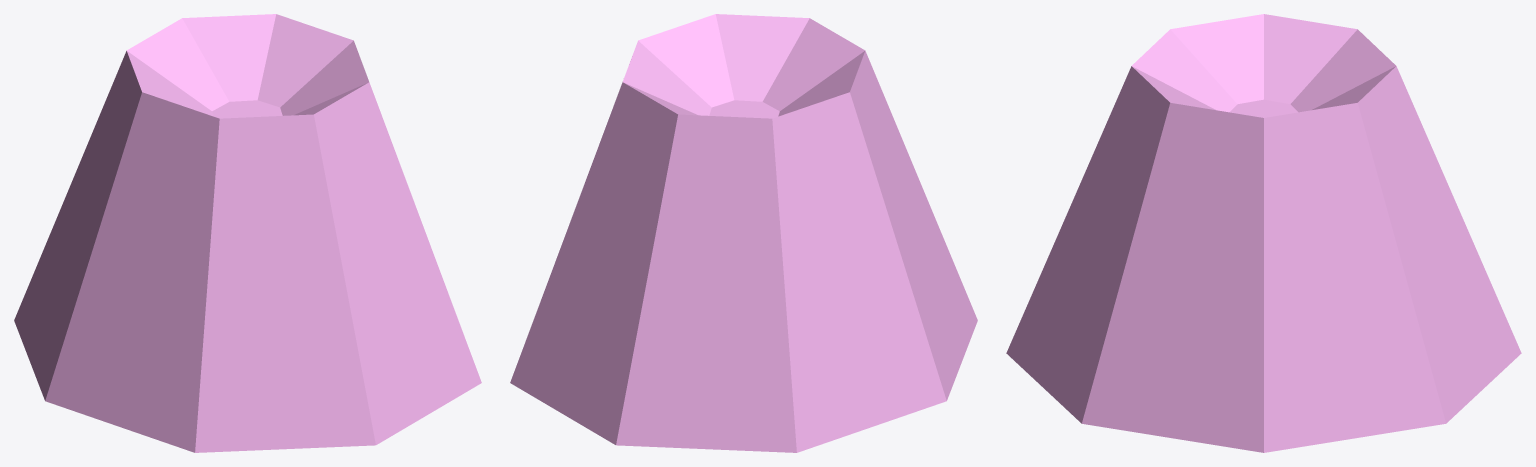
The model's file is Nozzle.fbx.
3 views of the same model, side by side, from view 1: azimuth 30°, elevation 25°; view 2: azimuth 150°, elevation 25°; view 3: azimuth 270°, elevation 25° (orthographic).
Parts seen in each view (by area): view 1: Nozzle; view 2: Nozzle; view 3: Nozzle.
Part boxes in pixels (bbox=[...]): Nozzle: bbox=[14, 14, 481, 452]; Nozzle: bbox=[510, 14, 977, 452]; Nozzle: bbox=[1006, 14, 1521, 452].
Size of the model in its own units: 150 by 101 by 163.
